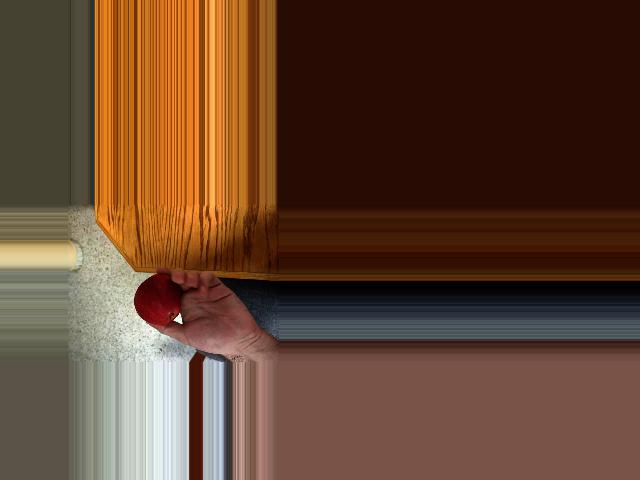apple: (132, 275, 182, 325)
